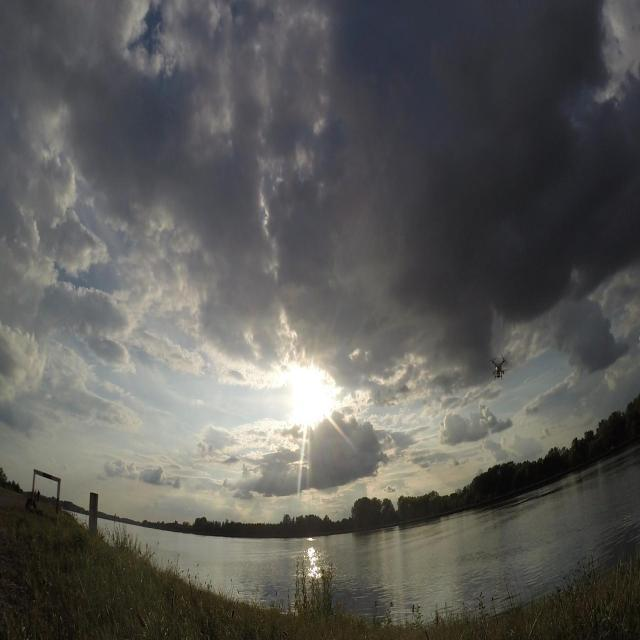drone: (486, 348, 511, 384)
